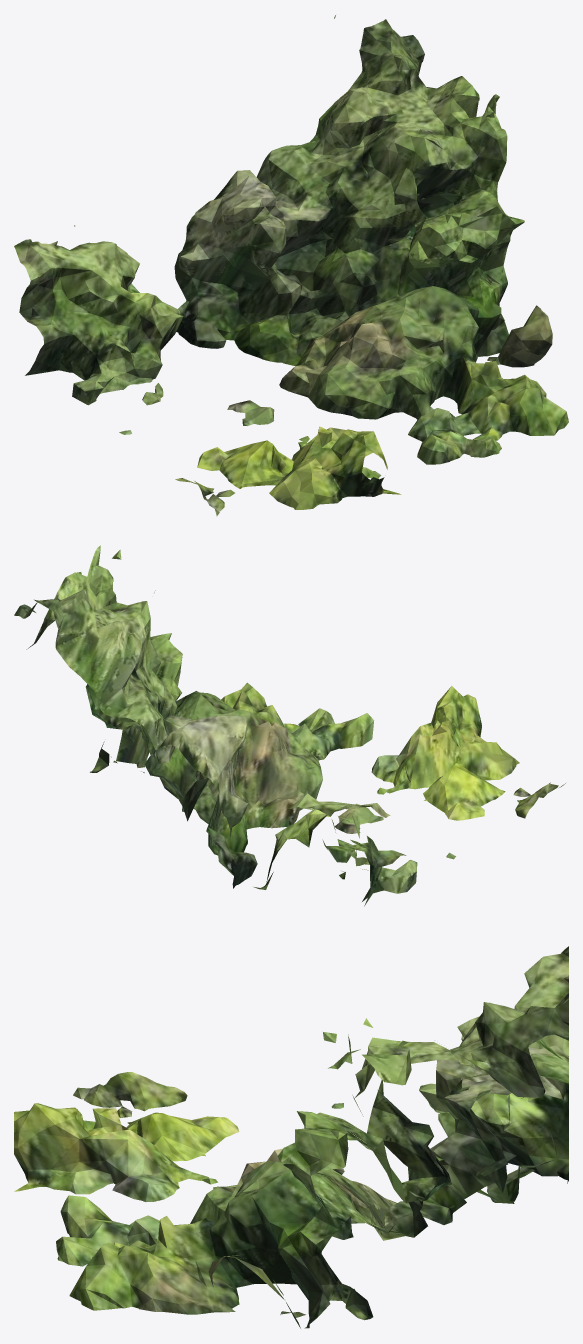
3 views of the same model, one above another, from view 1: azimuth 30°, elevation 25°; view 2: azimuth 150°, elevation 25°; view 3: azimuth 270°, elevation 25° (orthographic). The views are drawn at different scales.
Size of the model in its own units: 26.11 by 17.47 by 26.11.
4 materials, 4 textured.
